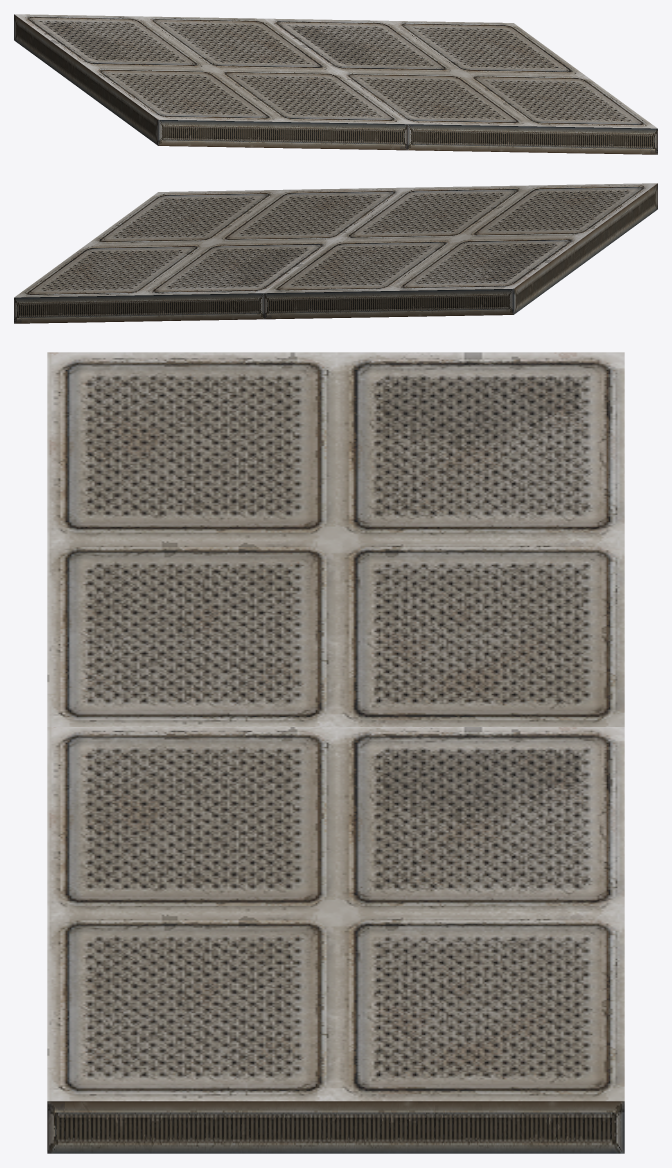
Rendered from scifi_ramp2_2.FBX.
The picture shows the model from 3 angles, top to bottom: view 1: azimuth 30°, elevation 25°; view 2: azimuth 150°, elevation 25°; view 3: azimuth 270°, elevation 25°; orthographic projection. The views are drawn at different scales.
Parts seen in each view (by area): view 1: Plane076; view 2: Plane076; view 3: Plane076.
Part boxes in pixels (x1,y1,x2,y2): Plane076: (14,14,657,154); Plane076: (14,183,657,323); Plane076: (47,352,624,1153).
Size of the model in its own units: 508 by 152 by 254.
